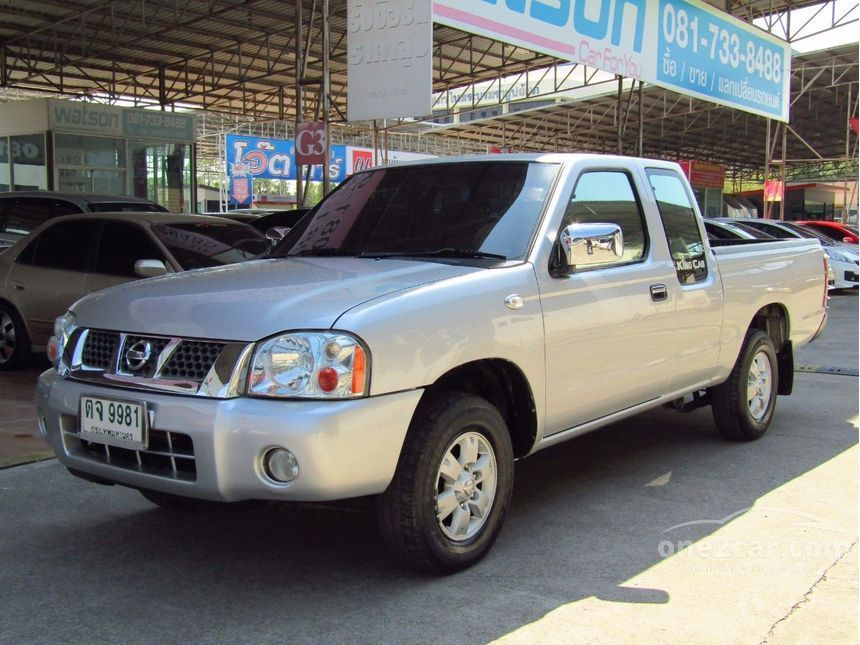pickup: (40, 150, 831, 568)
